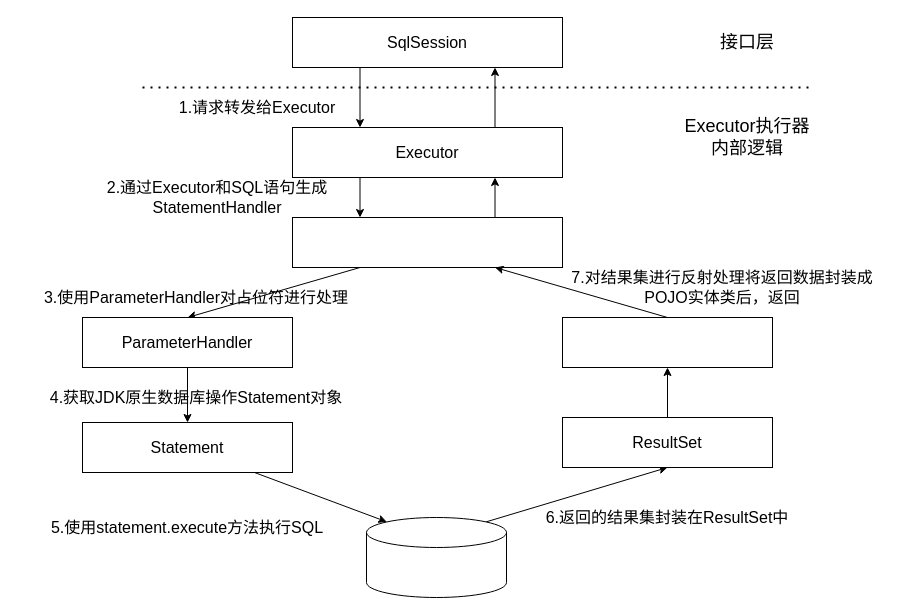
Some shapes in this 909 by 615 pixel diagram are drawn without their labels. The shapes that lost their labels are listed below. From the top down, each one's centre as x and y in pixels, then its label:
At pixel 427 242: "StatementHandler".
At pixel 667 342: "ResultSetHandler".
At pixel 436 557: "Database".
